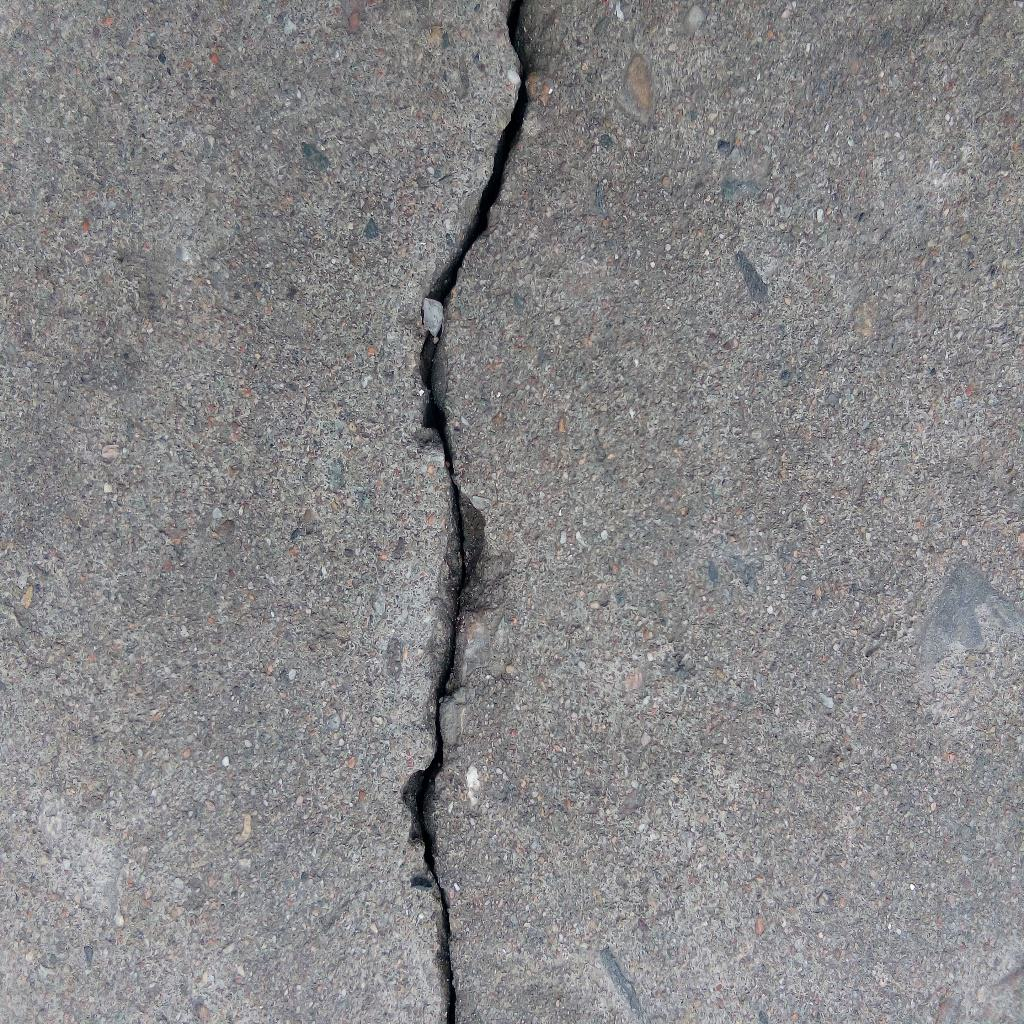Crack: (397, 1, 533, 1024)
